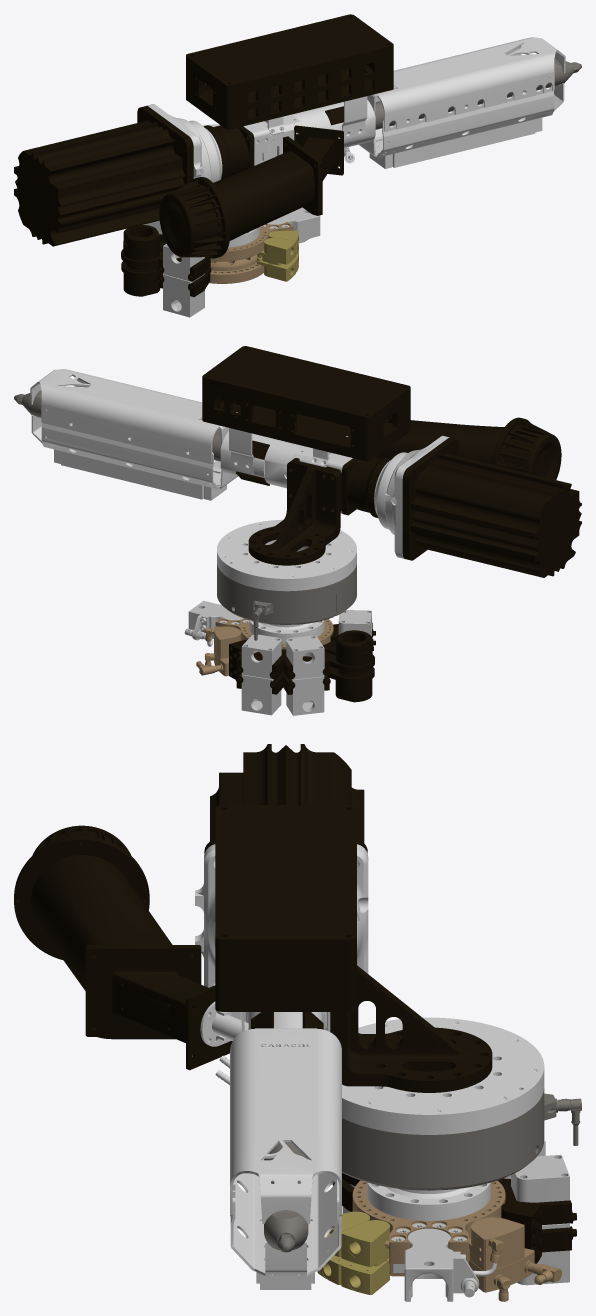
Rendered from hv_extruder.glb.
3 views of the same model, one above another, from view 1: azimuth 30°, elevation 25°; view 2: azimuth 150°, elevation 25°; view 3: azimuth 270°, elevation 25° (orthographic). The views are drawn at different scales.
Visible parts, largest first — view 1: hv_extruder; view 2: hv_extruder; view 3: hv_extruder.
Boxes of the visible parts, left/top/right/bottom form: hv_extruder: left=14, top=14, right=581, bottom=317; hv_extruder: left=14, top=346, right=581, bottom=715; hv_extruder: left=14, top=744, right=581, bottom=1301.
Bounding box in the file's own units: 1.16 × 0.5325 × 0.6413.
